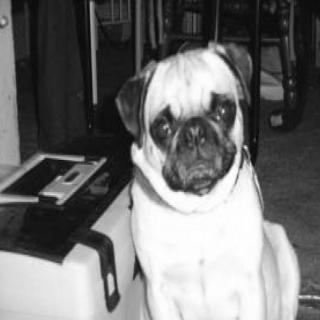dog: (119, 41, 260, 195)
nose: (181, 119, 210, 154)
